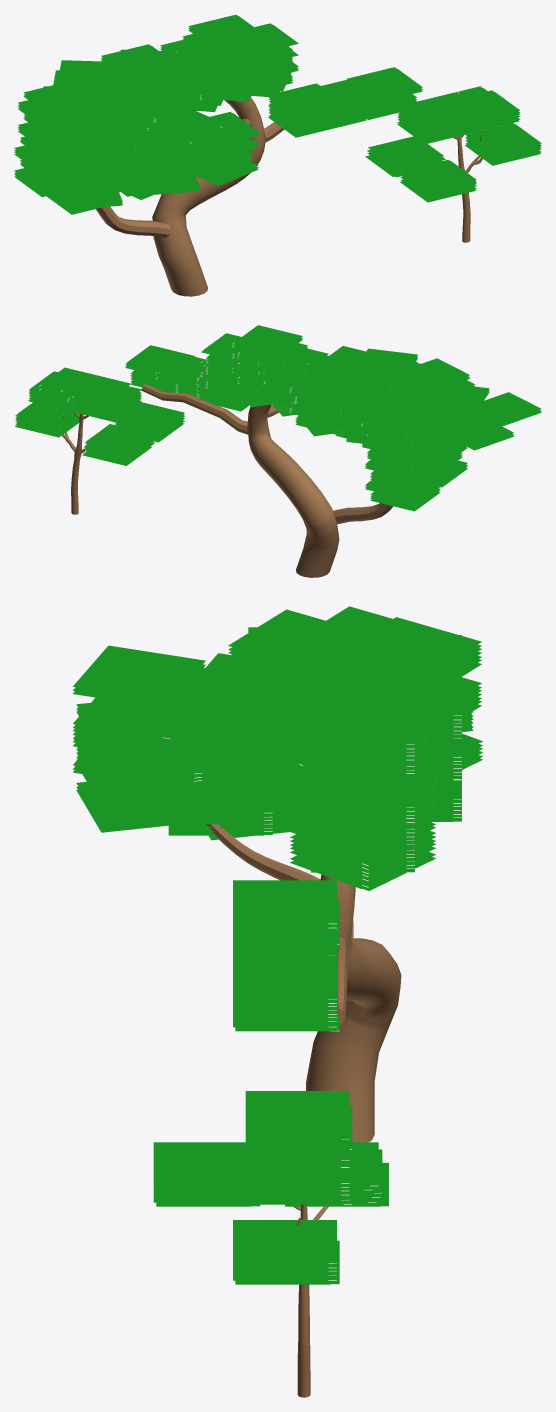
The model's file is endless runner tree.fbx.
3 renders of one model, top to bottom at view 1: azimuth 30°, elevation 25°; view 2: azimuth 150°, elevation 25°; view 3: azimuth 270°, elevation 25°, orthographic. The views are drawn at different scales.
Visible parts, largest first — view 1: pPlane513, curve16; view 2: pPlane513, curve16; view 3: pPlane513, curve16.
Boxes of the visible parts, x1,y1,x2,y2 form: pPlane513: [14, 14, 422, 296]; curve16: [365, 86, 541, 242]; pPlane513: [125, 325, 541, 577]; curve16: [14, 367, 184, 514]; pPlane513: [72, 606, 482, 1142]; curve16: [153, 1091, 388, 1397].
Size of the model in its own units: 2090 by 996 by 791.
